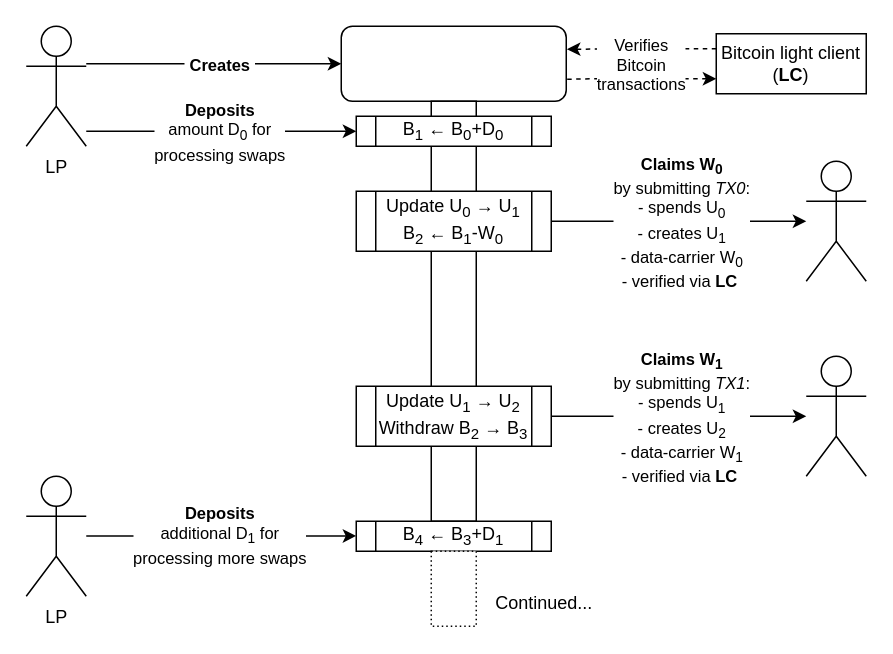
This 893x654 diagram has some shape labels left out. The box of each missing label's shape, as (x1, y1, x2, y2) in pixels:
User 1: (805, 160, 866, 281)
User 2: (805, 355, 866, 476)
UTXO-controlled vault UTXO U 0 Balance B 0 = 0: (340, 25, 566, 101)
